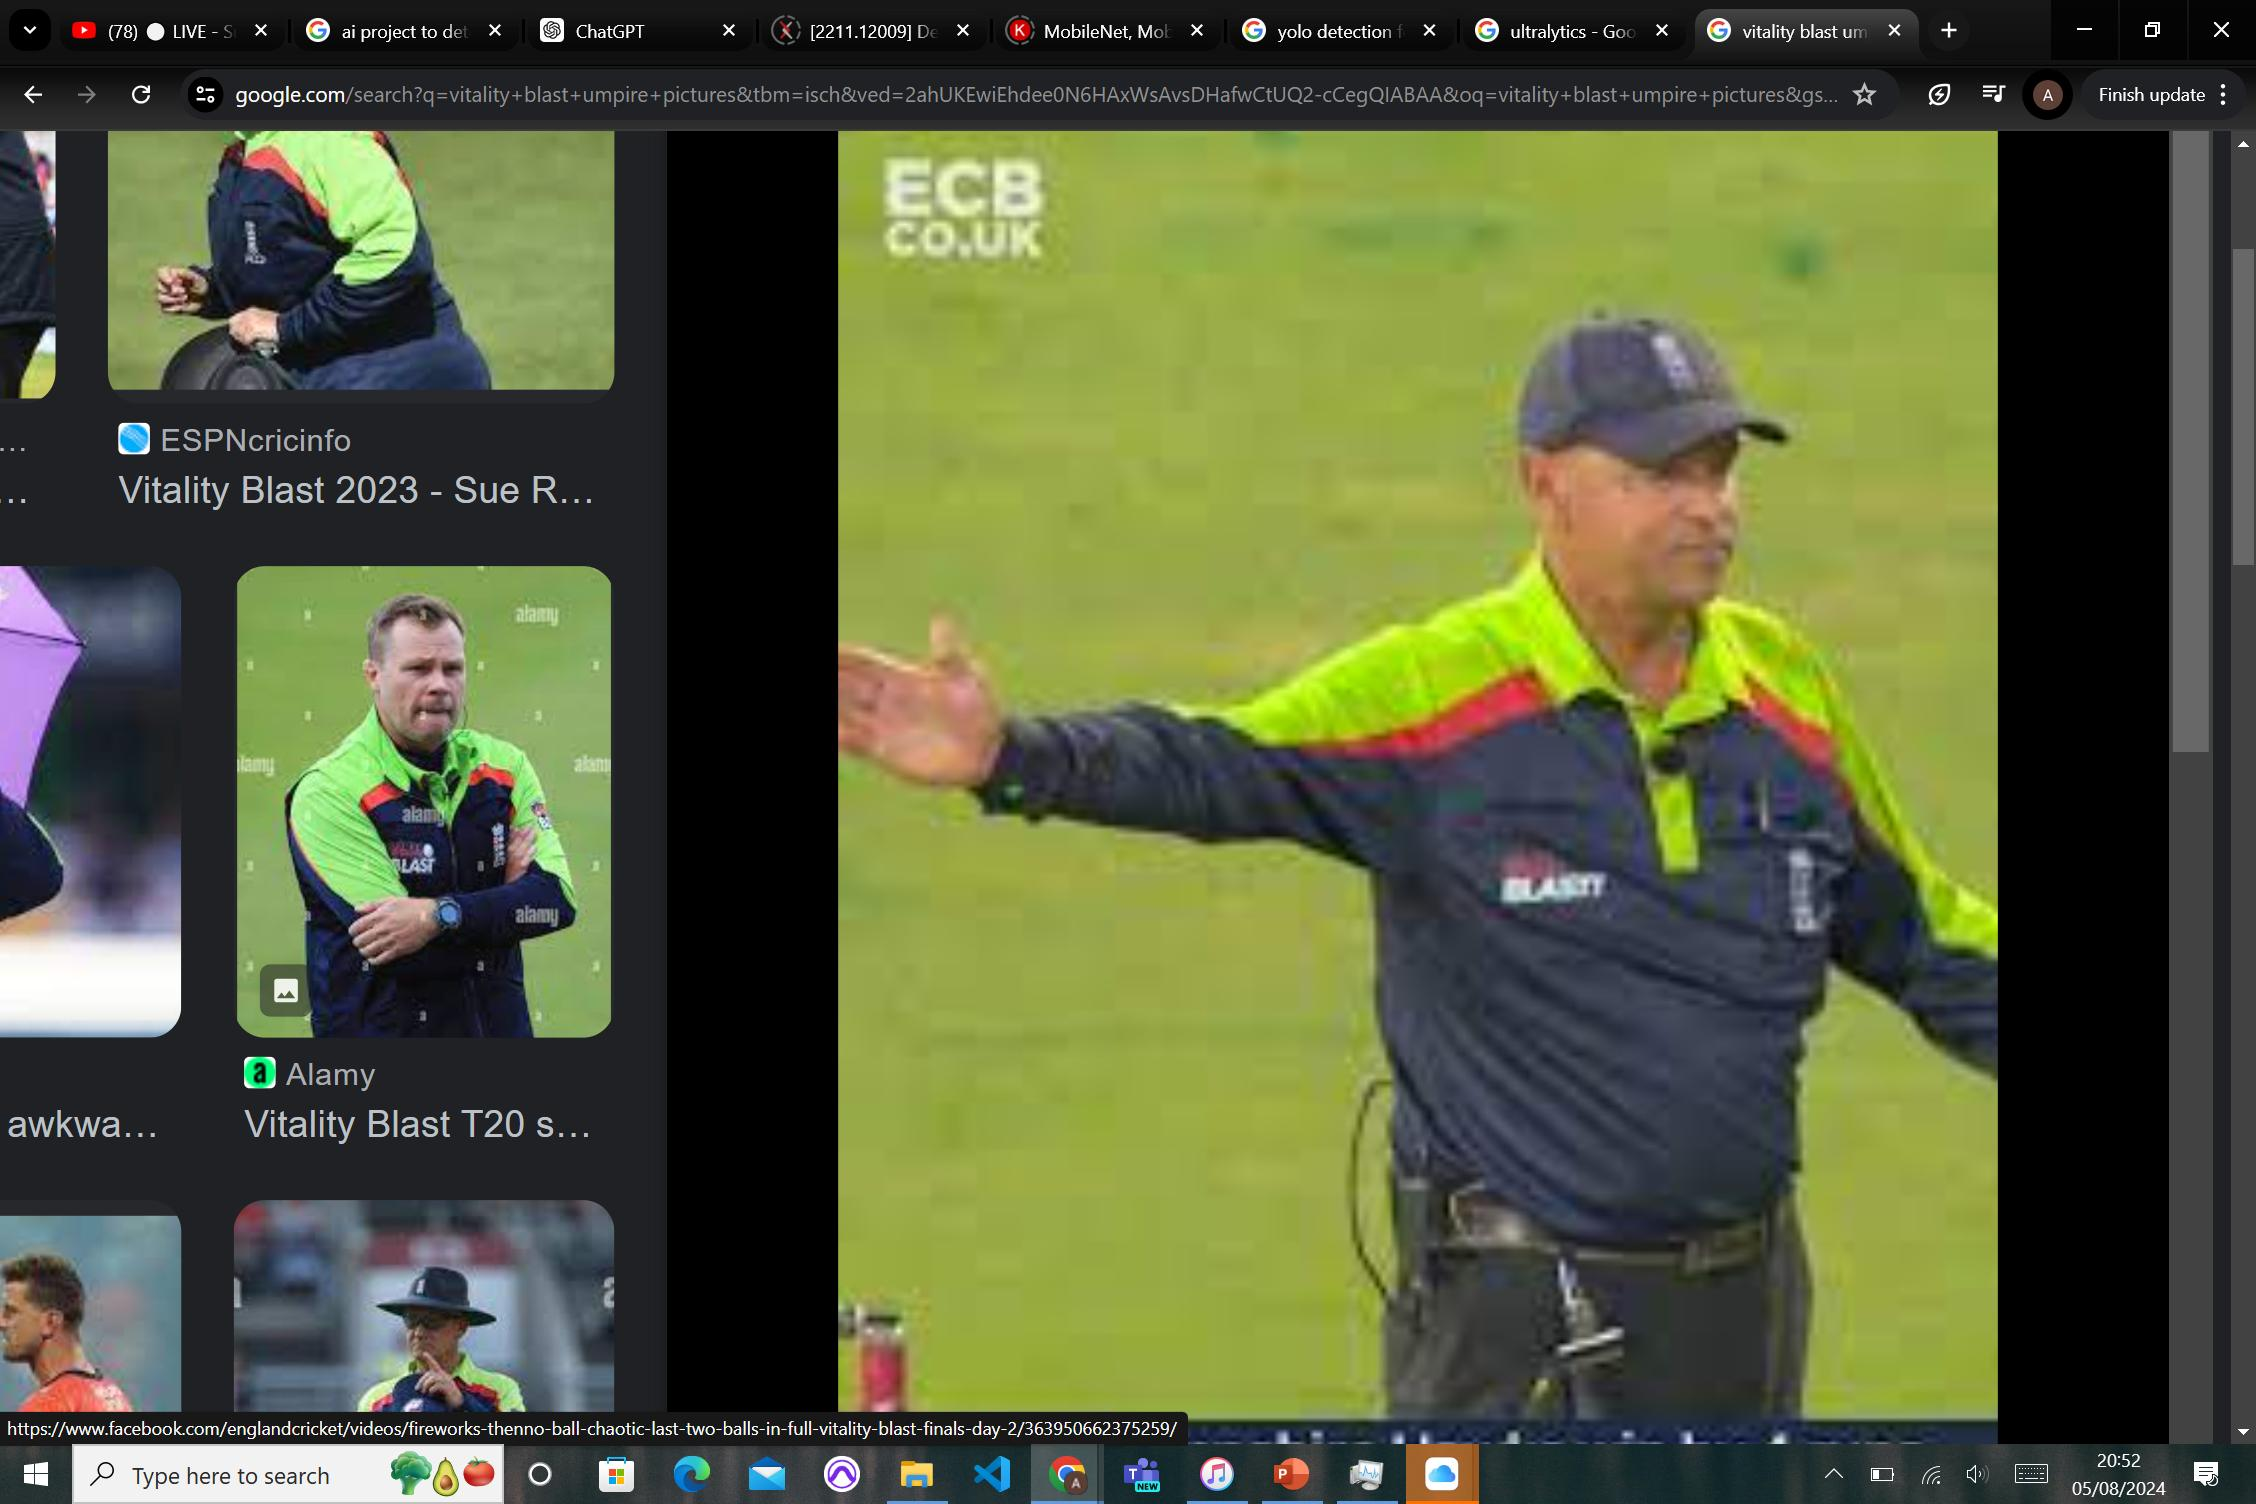umpire: (829, 213, 2016, 1345), (264, 587, 618, 1039)
